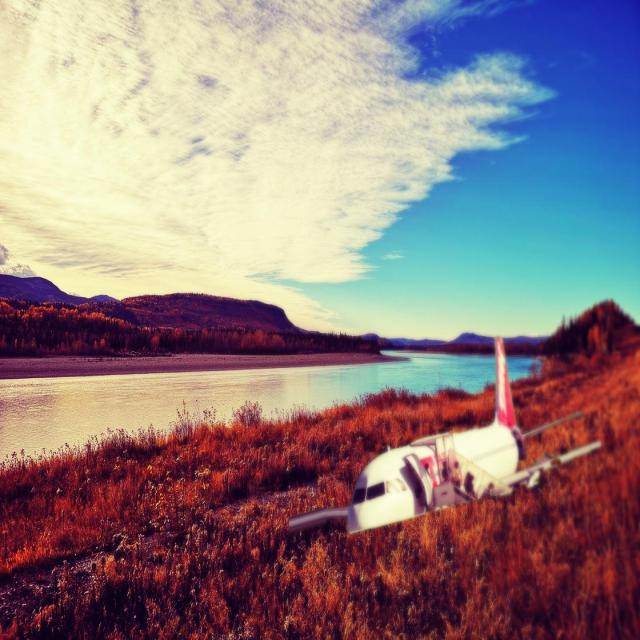airplane: (286, 336, 602, 535)
